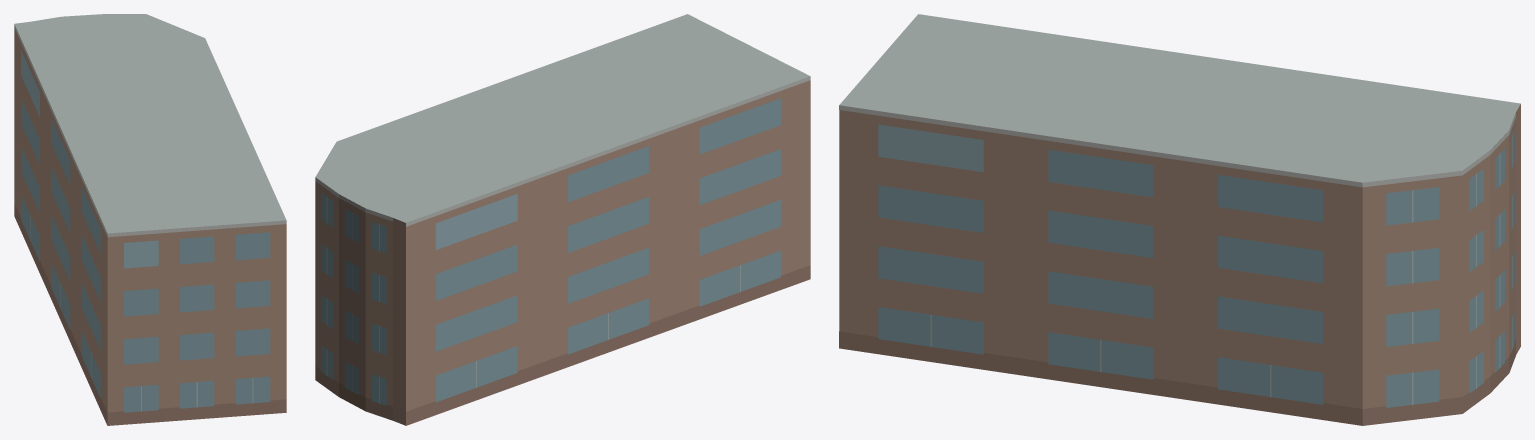
Rendered from survey-upis-32886554.glb.
3 views of the same model, side by side, from view 1: azimuth 30°, elevation 25°; view 2: azimuth 150°, elevation 25°; view 3: azimuth 270°, elevation 25° (orthographic). The views are drawn at different scales.
Parts seen in each view (by area): view 1: survey-upis-32886554.tmp; view 2: survey-upis-32886554.tmp; view 3: survey-upis-32886554.tmp.
Boxes of the visible parts, box(x1,y1,x2,y2) form: survey-upis-32886554.tmp: box(14, 14, 286, 425); survey-upis-32886554.tmp: box(315, 14, 810, 425); survey-upis-32886554.tmp: box(839, 14, 1520, 425).
Size of the model in its own units: 18.91 by 12.7 by 32.27.
